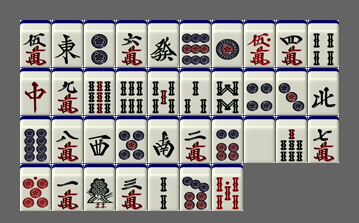0m: (244, 20, 275, 67)
0p: (20, 164, 51, 211)
0s: (212, 164, 243, 211)
1m: (52, 164, 83, 211)
1p: (212, 20, 243, 67)
1s: (84, 164, 115, 211)
1z: (52, 20, 83, 67)
2m: (180, 116, 211, 163)
2p: (84, 20, 115, 67)
2s: (148, 164, 179, 211)
2z: (148, 116, 179, 163)
3m: (116, 164, 147, 211)
3p: (276, 68, 307, 115)
3s: (180, 68, 211, 115)
3z: (84, 116, 115, 163)
4m: (276, 20, 307, 67)
4p: (244, 68, 275, 115)
4s: (308, 20, 339, 67)
4z: (308, 68, 339, 115)
5m: (20, 20, 51, 67)
5p: (116, 116, 147, 163)
5s: (148, 68, 179, 115)
5z: (244, 116, 275, 163)
6m: (116, 20, 147, 67)
6p: (212, 116, 243, 163)
6s: (116, 68, 147, 115)
6z: (148, 20, 179, 67)
7m: (308, 116, 339, 163)
7p: (180, 164, 211, 211)
7s: (276, 116, 307, 163)
7z: (20, 68, 51, 115)
8m: (52, 116, 83, 163)
8p: (20, 116, 51, 163)
8s: (212, 68, 243, 115)
9m: (52, 68, 83, 115)
9p: (180, 20, 211, 67)
9s: (84, 68, 115, 115)
